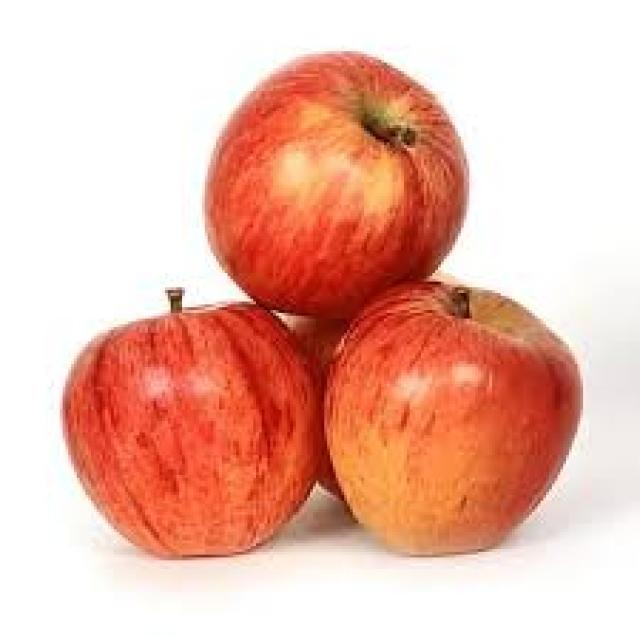Apple: (312, 285, 573, 558), (58, 327, 343, 559), (212, 64, 455, 309)
